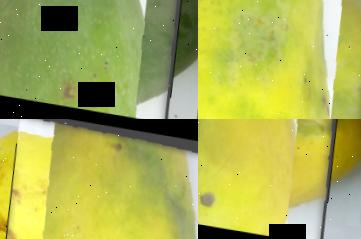PartiallyRipe: (198, 0, 361, 119)
Ripe: (0, 119, 198, 239), (198, 119, 346, 239)
Unripe: (0, 0, 190, 119)
